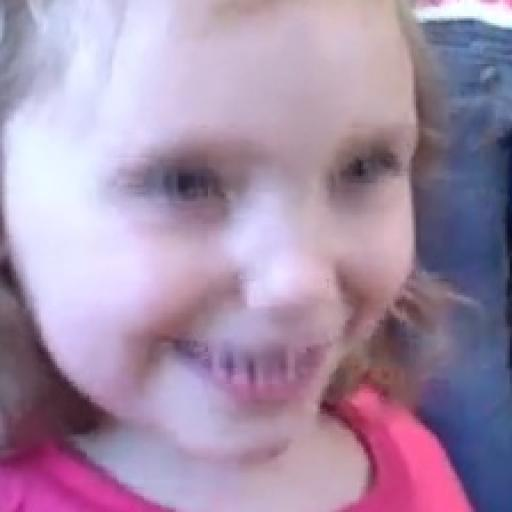Autism: (0, 0, 429, 491)
